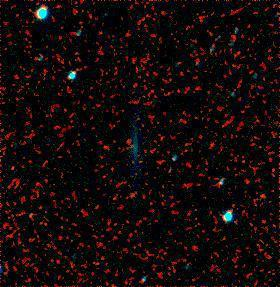star: (115, 181, 145, 211)
